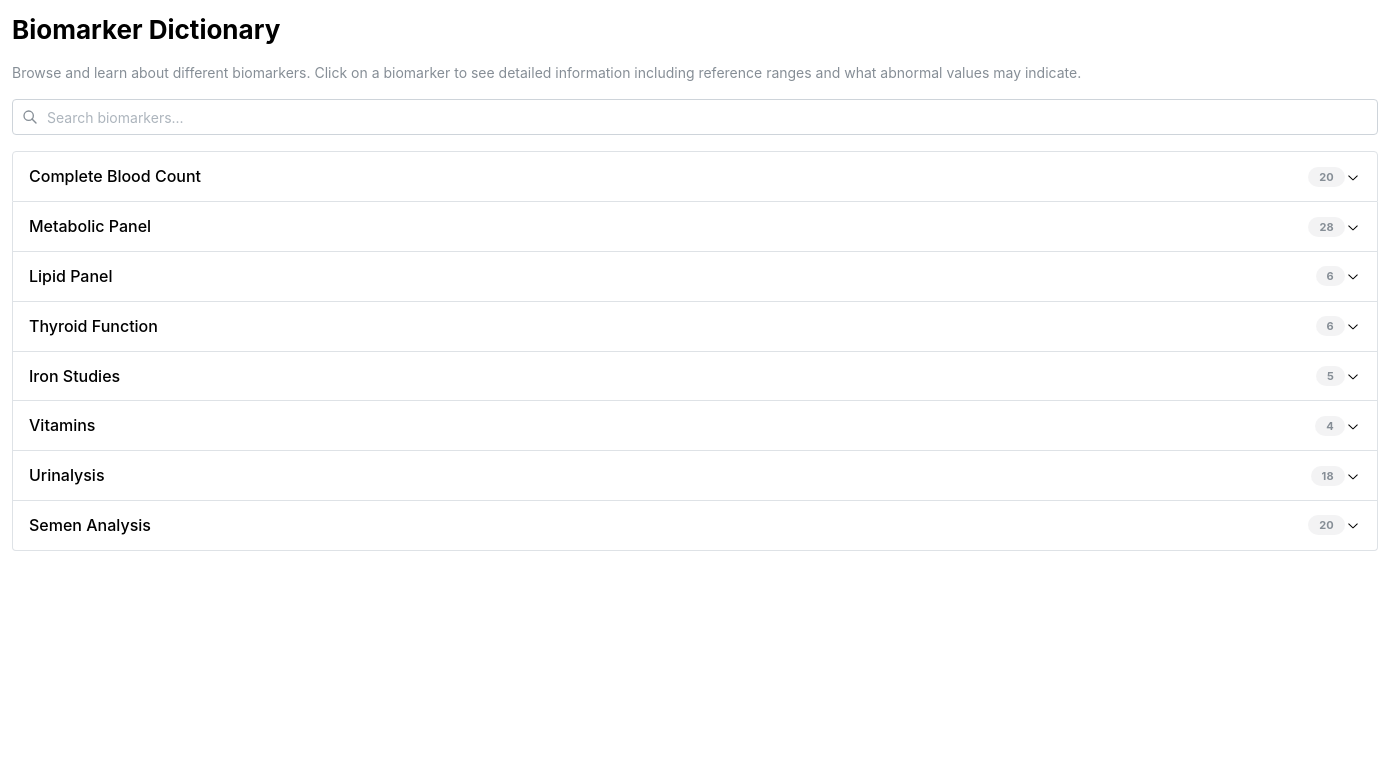
Test: BiomarkerDictionary › search functionality › should show no results message
Type "xyz123notfound" into the field with placeholder "Search biomarkers..." at (695, 117), box [12,99,1378,135]
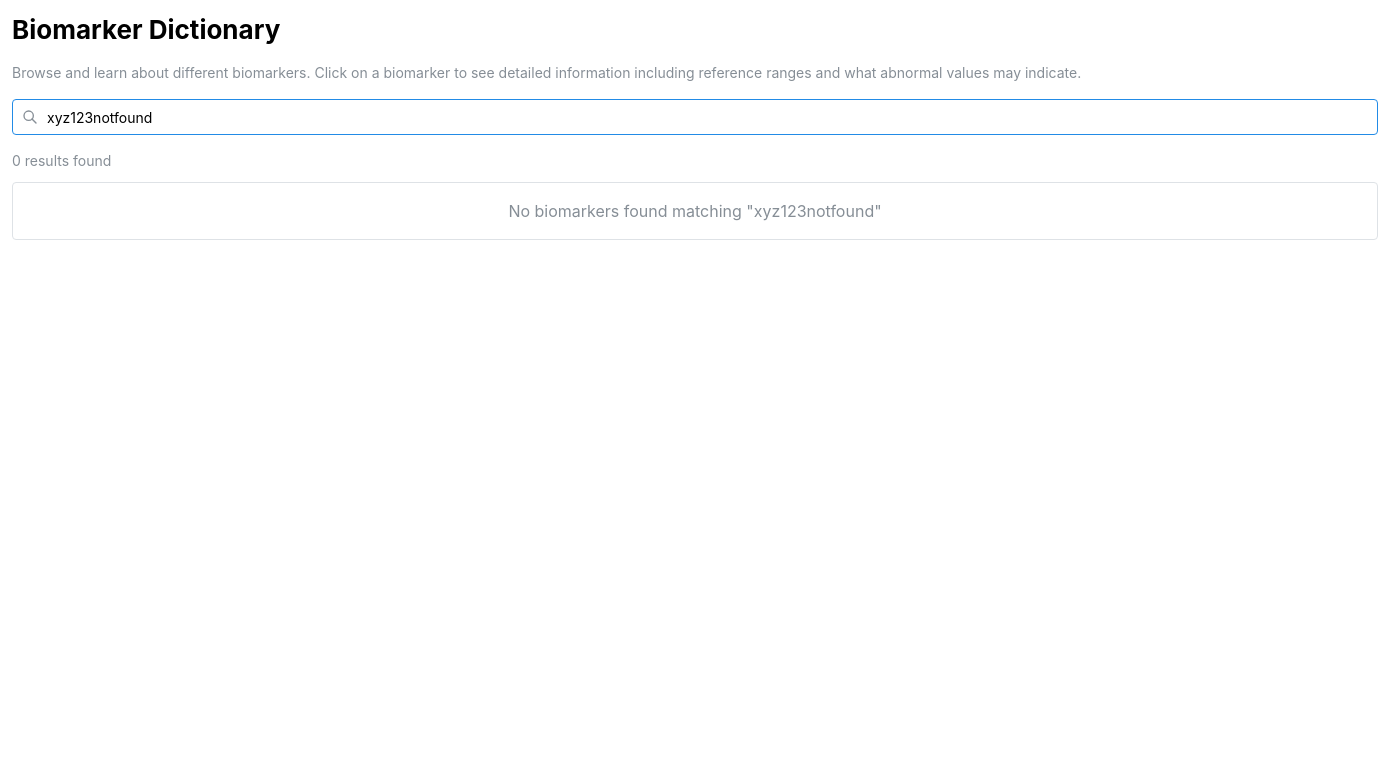
Expected: the text "No biomarkers found matching \"xyz123notfound\"" is shown, [508,201,882,221]
